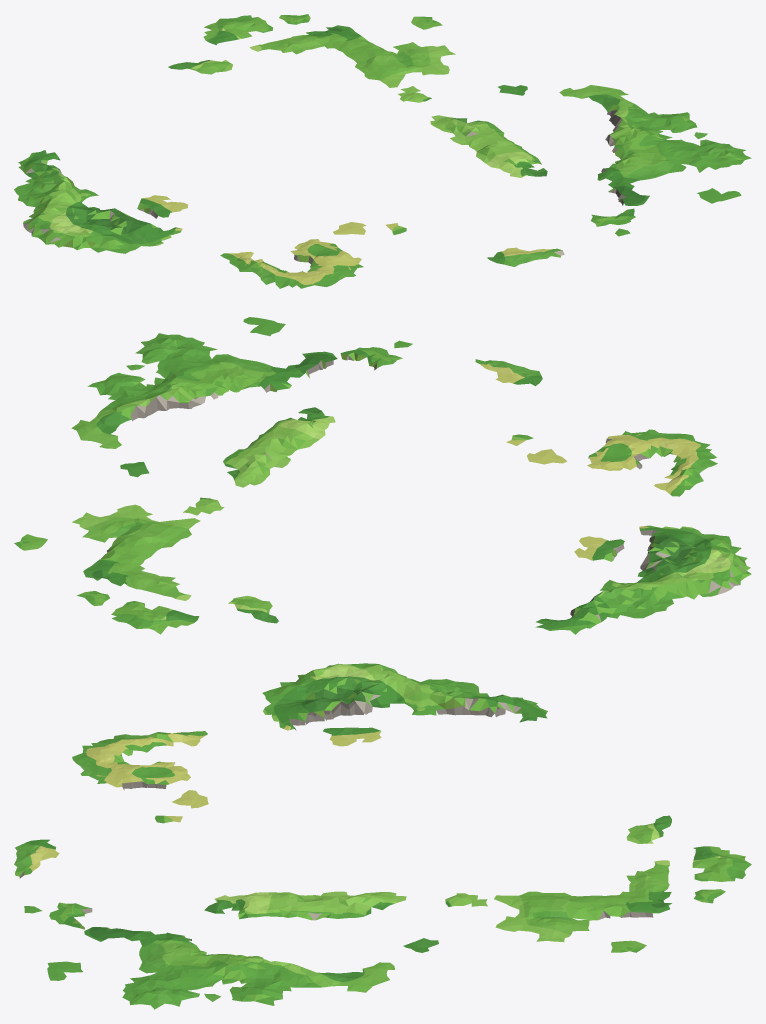
Rendered from Isl-orc2-Relief.fbx.
The picture shows the model from 3 angles, top to bottom: view 1: azimuth 30°, elevation 25°; view 2: azimuth 150°, elevation 25°; view 3: azimuth 270°, elevation 25°; orthographic projection. The views are drawn at different scales.
Visible parts, largest first — view 1: Isl-orc2-Relief-c21, Isl-orc2-Relief-c22, Isl-orc2-Relief-c11, Isl-orc2-Relief-c12, Isl-orc2-Relief-c02, Isl-orc2-Relief-c01, Isl-orc2-Relief-c23; view 2: Isl-orc2-Relief-c21, Isl-orc2-Relief-c22, Isl-orc2-Relief-c11, Isl-orc2-Relief-c12, Isl-orc2-Relief-c02, Isl-orc2-Relief-c01, Isl-orc2-Relief-c23; view 3: Isl-orc2-Relief-c21, Isl-orc2-Relief-c22, Isl-orc2-Relief-c11, Isl-orc2-Relief-c12, Isl-orc2-Relief-c02, Isl-orc2-Relief-c01, Isl-orc2-Relief-c23.
Boxes of the visible parts, x1=… form: Isl-orc2-Relief-c21: x1=450, y1=96, x2=751, y2=264; Isl-orc2-Relief-c22: x1=213, y1=14, x2=628, y2=135; Isl-orc2-Relief-c11: x1=96, y1=202, x2=519, y2=288; Isl-orc2-Relief-c12: x1=18, y1=38, x2=232, y2=221; Isl-orc2-Relief-c02: x1=14, y1=179, x2=95, y2=237; Isl-orc2-Relief-c01: x1=38, y1=221, x2=129, y2=253; Isl-orc2-Relief-c23: x1=204, y1=15, x2=299, y2=37; Isl-orc2-Relief-c21: x1=87, y1=317, x2=530, y2=467; Isl-orc2-Relief-c22: x1=14, y1=420, x2=273, y2=620; Isl-orc2-Relief-c11: x1=506, y1=370, x2=719, y2=560; Isl-orc2-Relief-c12: x1=185, y1=541, x2=679, y2=634; Isl-orc2-Relief-c02: x1=610, y1=561, x2=740, y2=618; Isl-orc2-Relief-c01: x1=680, y1=535, x2=751, y2=580; Isl-orc2-Relief-c23: x1=85, y1=598, x2=184, y2=634; Isl-orc2-Relief-c21: x1=14, y1=849, x2=348, y2=1006; Isl-orc2-Relief-c22: x1=345, y1=849, x2=713, y2=992; Isl-orc2-Relief-c11: x1=15, y1=689, x2=349, y2=850; Isl-orc2-Relief-c12: x1=345, y1=687, x2=711, y2=850; Isl-orc2-Relief-c02: x1=345, y1=663, x2=488, y2=696; Isl-orc2-Relief-c01: x1=262, y1=663, x2=348, y2=696; Isl-orc2-Relief-c23: x1=709, y1=850, x2=751, y2=898.
Bounding box in the file's own units: 98.32 × 1.72 × 89.17.
